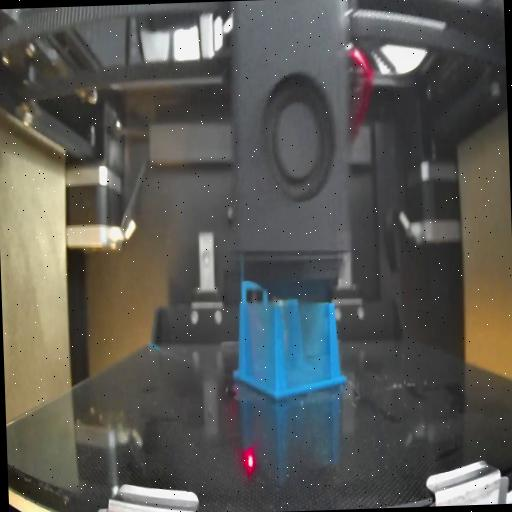stringing: (280, 300, 332, 391), (242, 294, 276, 392)
